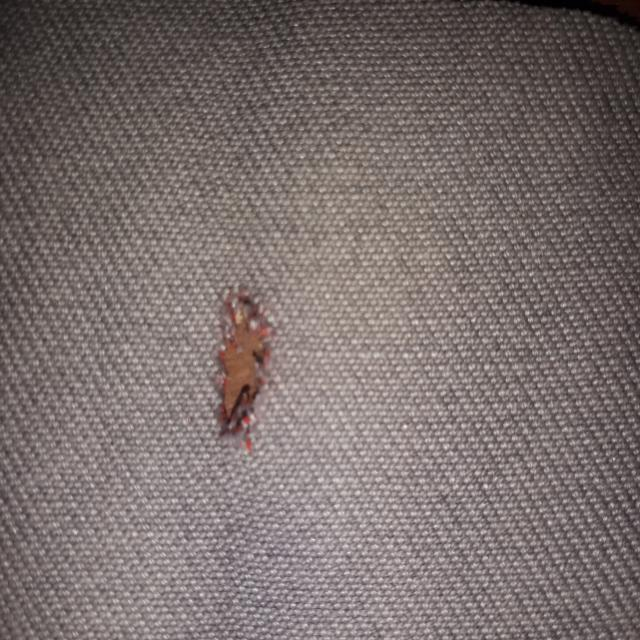seam: (122, 236, 348, 469)
